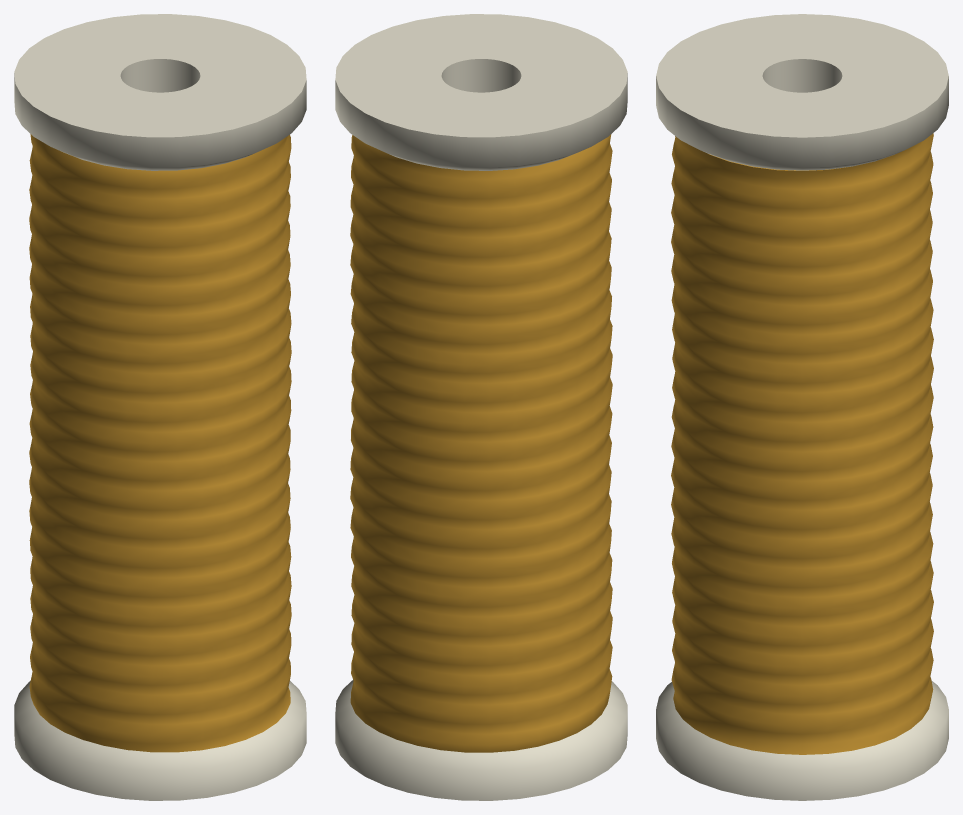
3 renders of one model, left to right at view 1: azimuth 30°, elevation 25°; view 2: azimuth 150°, elevation 25°; view 3: azimuth 270°, elevation 25°, orthographic.
Visible parts, largest first — view 1: Wound thread with helical surface grooves, Through-bore core with two end flanges; view 2: Wound thread with helical surface grooves, Through-bore core with two end flanges; view 3: Wound thread with helical surface grooves, Through-bore core with two end flanges.
Part boxes in pixels (left/top/right/bottom): Wound thread with helical surface grooves: left=29, top=134, right=291, bottom=752; Through-bore core with two end flanges: left=14, top=14, right=306, bottom=800; Wound thread with helical surface grooves: left=350, top=134, right=612, bottom=752; Through-bore core with two end flanges: left=335, top=14, right=627, bottom=800; Wound thread with helical surface grooves: left=671, top=133, right=933, bottom=754; Through-bore core with two end flanges: left=656, top=14, right=948, bottom=800.
Bounding box in the file's own units: 0.022 × 0.055 × 0.022.
